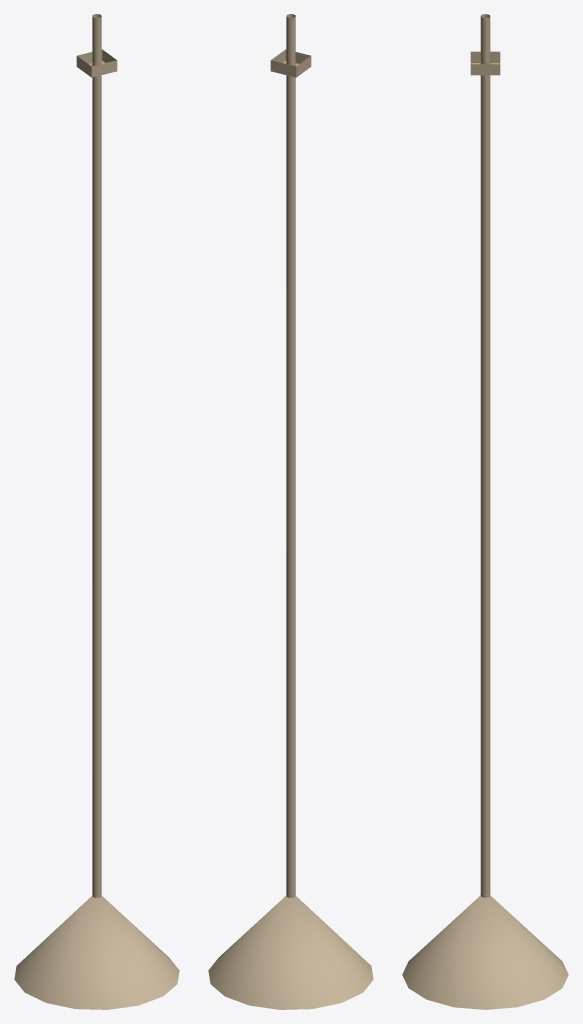
Rendered from lamp.FBX.
3 views of the same model, side by side, from view 1: azimuth 30°, elevation 25°; view 2: azimuth 150°, elevation 25°; view 3: azimuth 270°, elevation 25° (orthographic).
Visible parts, largest first — view 1: Cone003, Cylinder395, Box524; view 2: Cone003, Cylinder395, Box524; view 3: Cone003, Cylinder395, Box524.
Boxes of the visible parts, <box> form: Cone003: <box>14,896,179,1009</box>; Cylinder395: <box>92,14,101,897</box>; Box524: <box>76,49,117,77</box>; Cone003: <box>208,896,373,1009</box>; Cylinder395: <box>286,14,295,897</box>; Box524: <box>270,49,311,77</box>; Cone003: <box>402,895,568,1009</box>; Cylinder395: <box>480,14,490,897</box>; Box524: <box>470,51,500,75</box>.
Size of the model in its own units: 0.6763 by 4.29 by 0.6763.
